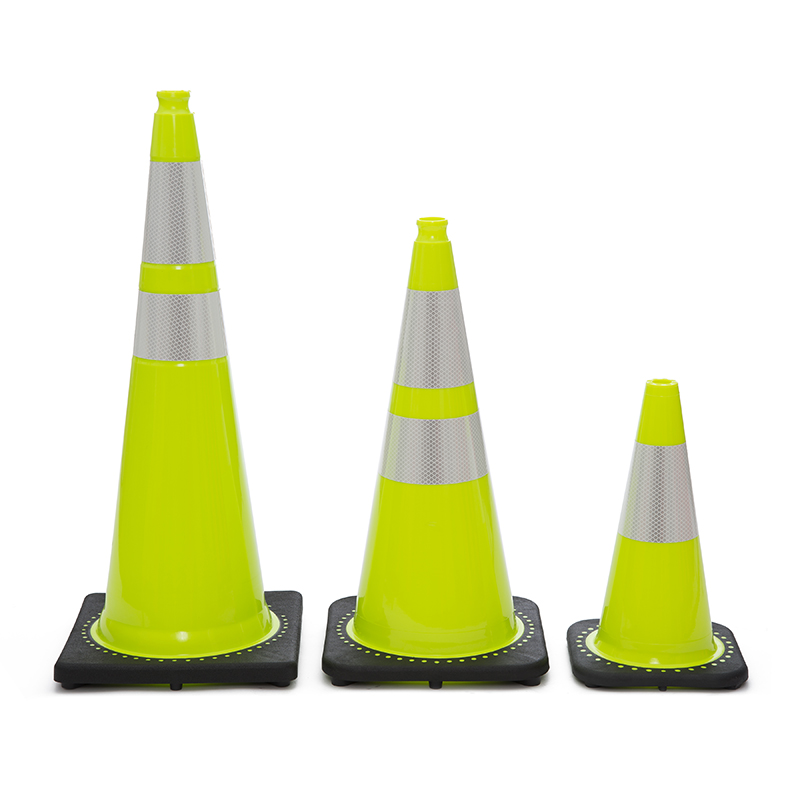cone: (51, 88, 306, 689), (327, 211, 552, 686), (571, 376, 747, 688)
